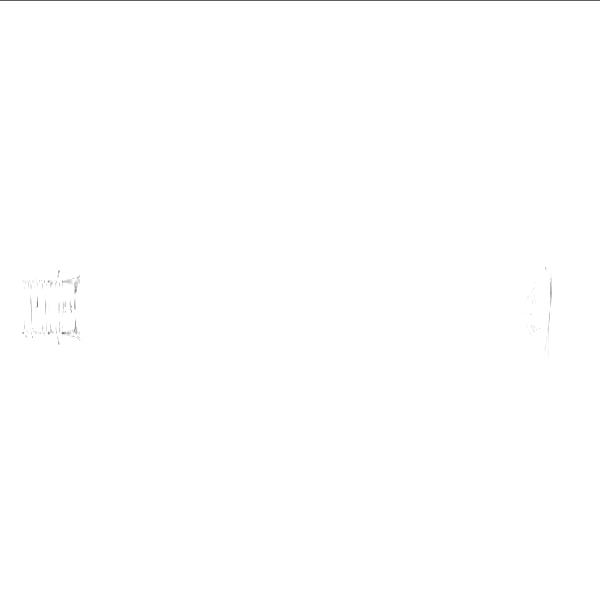bottle: (10, 216, 564, 400)
